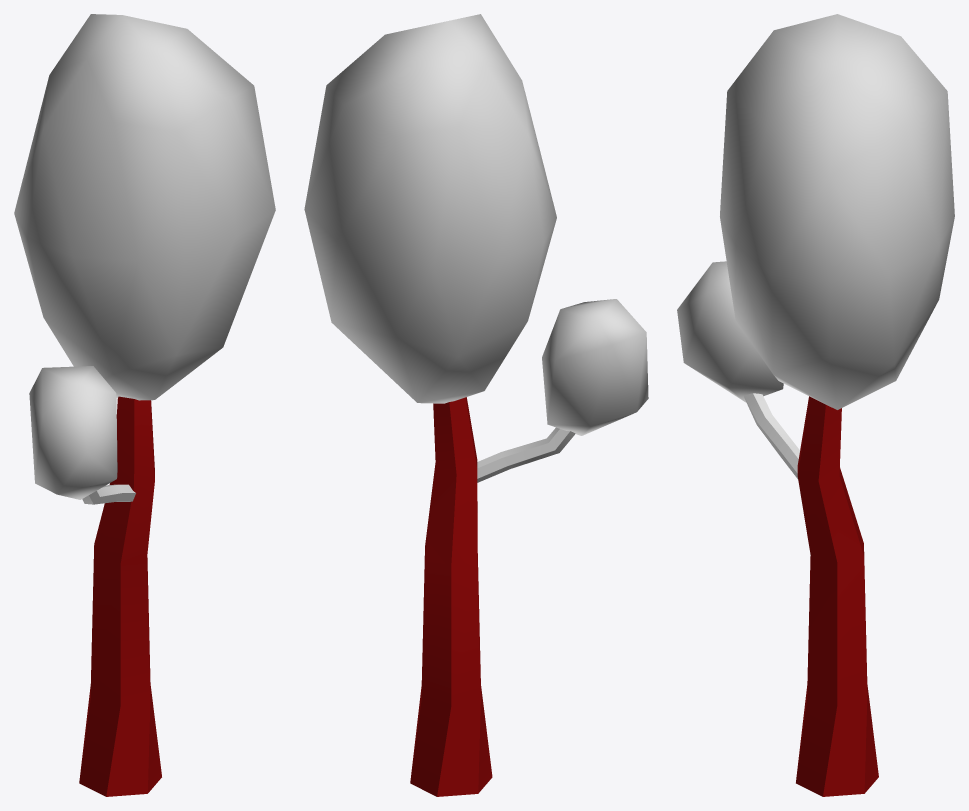
File: SM_SmallBirch.fbx
3 views of the same model, side by side, from view 1: azimuth 30°, elevation 25°; view 2: azimuth 150°, elevation 25°; view 3: azimuth 270°, elevation 25° (orthographic).
Parts seen in each view (by area): view 1: Small_LeafTwo_Birch, Small_Truck_Birch, Small_LeafsOne_Birch, Small_Branch_Birch; view 2: Small_LeafTwo_Birch, Small_Truck_Birch, Small_LeafsOne_Birch, Small_Branch_Birch; view 3: Small_LeafTwo_Birch, Small_Truck_Birch, Small_LeafsOne_Birch, Small_Branch_Birch.
Boxes of the visible parts, bbox=[...] form: Small_LeafTwo_Birch: bbox=[14, 14, 275, 400]; Small_Truck_Birch: bbox=[79, 396, 161, 796]; Small_LeafsOne_Birch: bbox=[29, 366, 117, 499]; Small_Branch_Birch: bbox=[82, 484, 135, 504]; Small_LeafTwo_Birch: bbox=[304, 14, 556, 403]; Small_Truck_Birch: bbox=[410, 397, 492, 796]; Small_LeafsOne_Birch: bbox=[542, 299, 648, 435]; Small_Branch_Birch: bbox=[477, 427, 575, 482]; Small_LeafTwo_Birch: bbox=[720, 14, 954, 409]; Small_Truck_Birch: bbox=[796, 396, 878, 796]; Small_LeafsOne_Birch: bbox=[677, 261, 783, 402]; Small_Branch_Birch: bbox=[744, 393, 799, 478].
Bounding box in the file's own units: 25.45 × 67.47 × 22.15.
